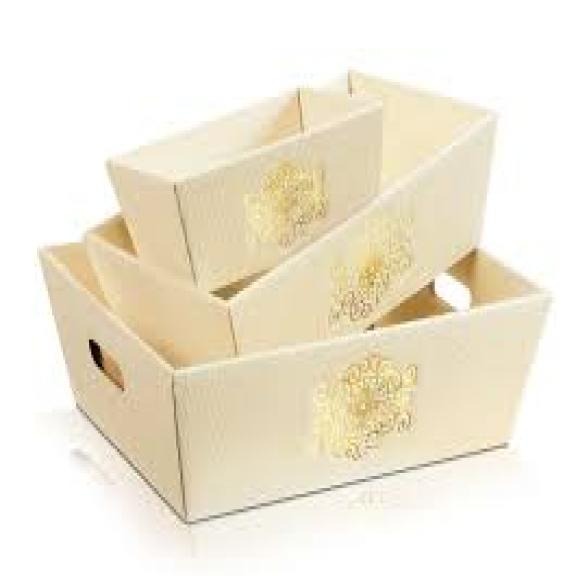Kertas: (42, 243, 547, 521), (90, 116, 495, 360), (109, 73, 495, 291), (107, 88, 382, 291), (529, 258, 532, 266)
